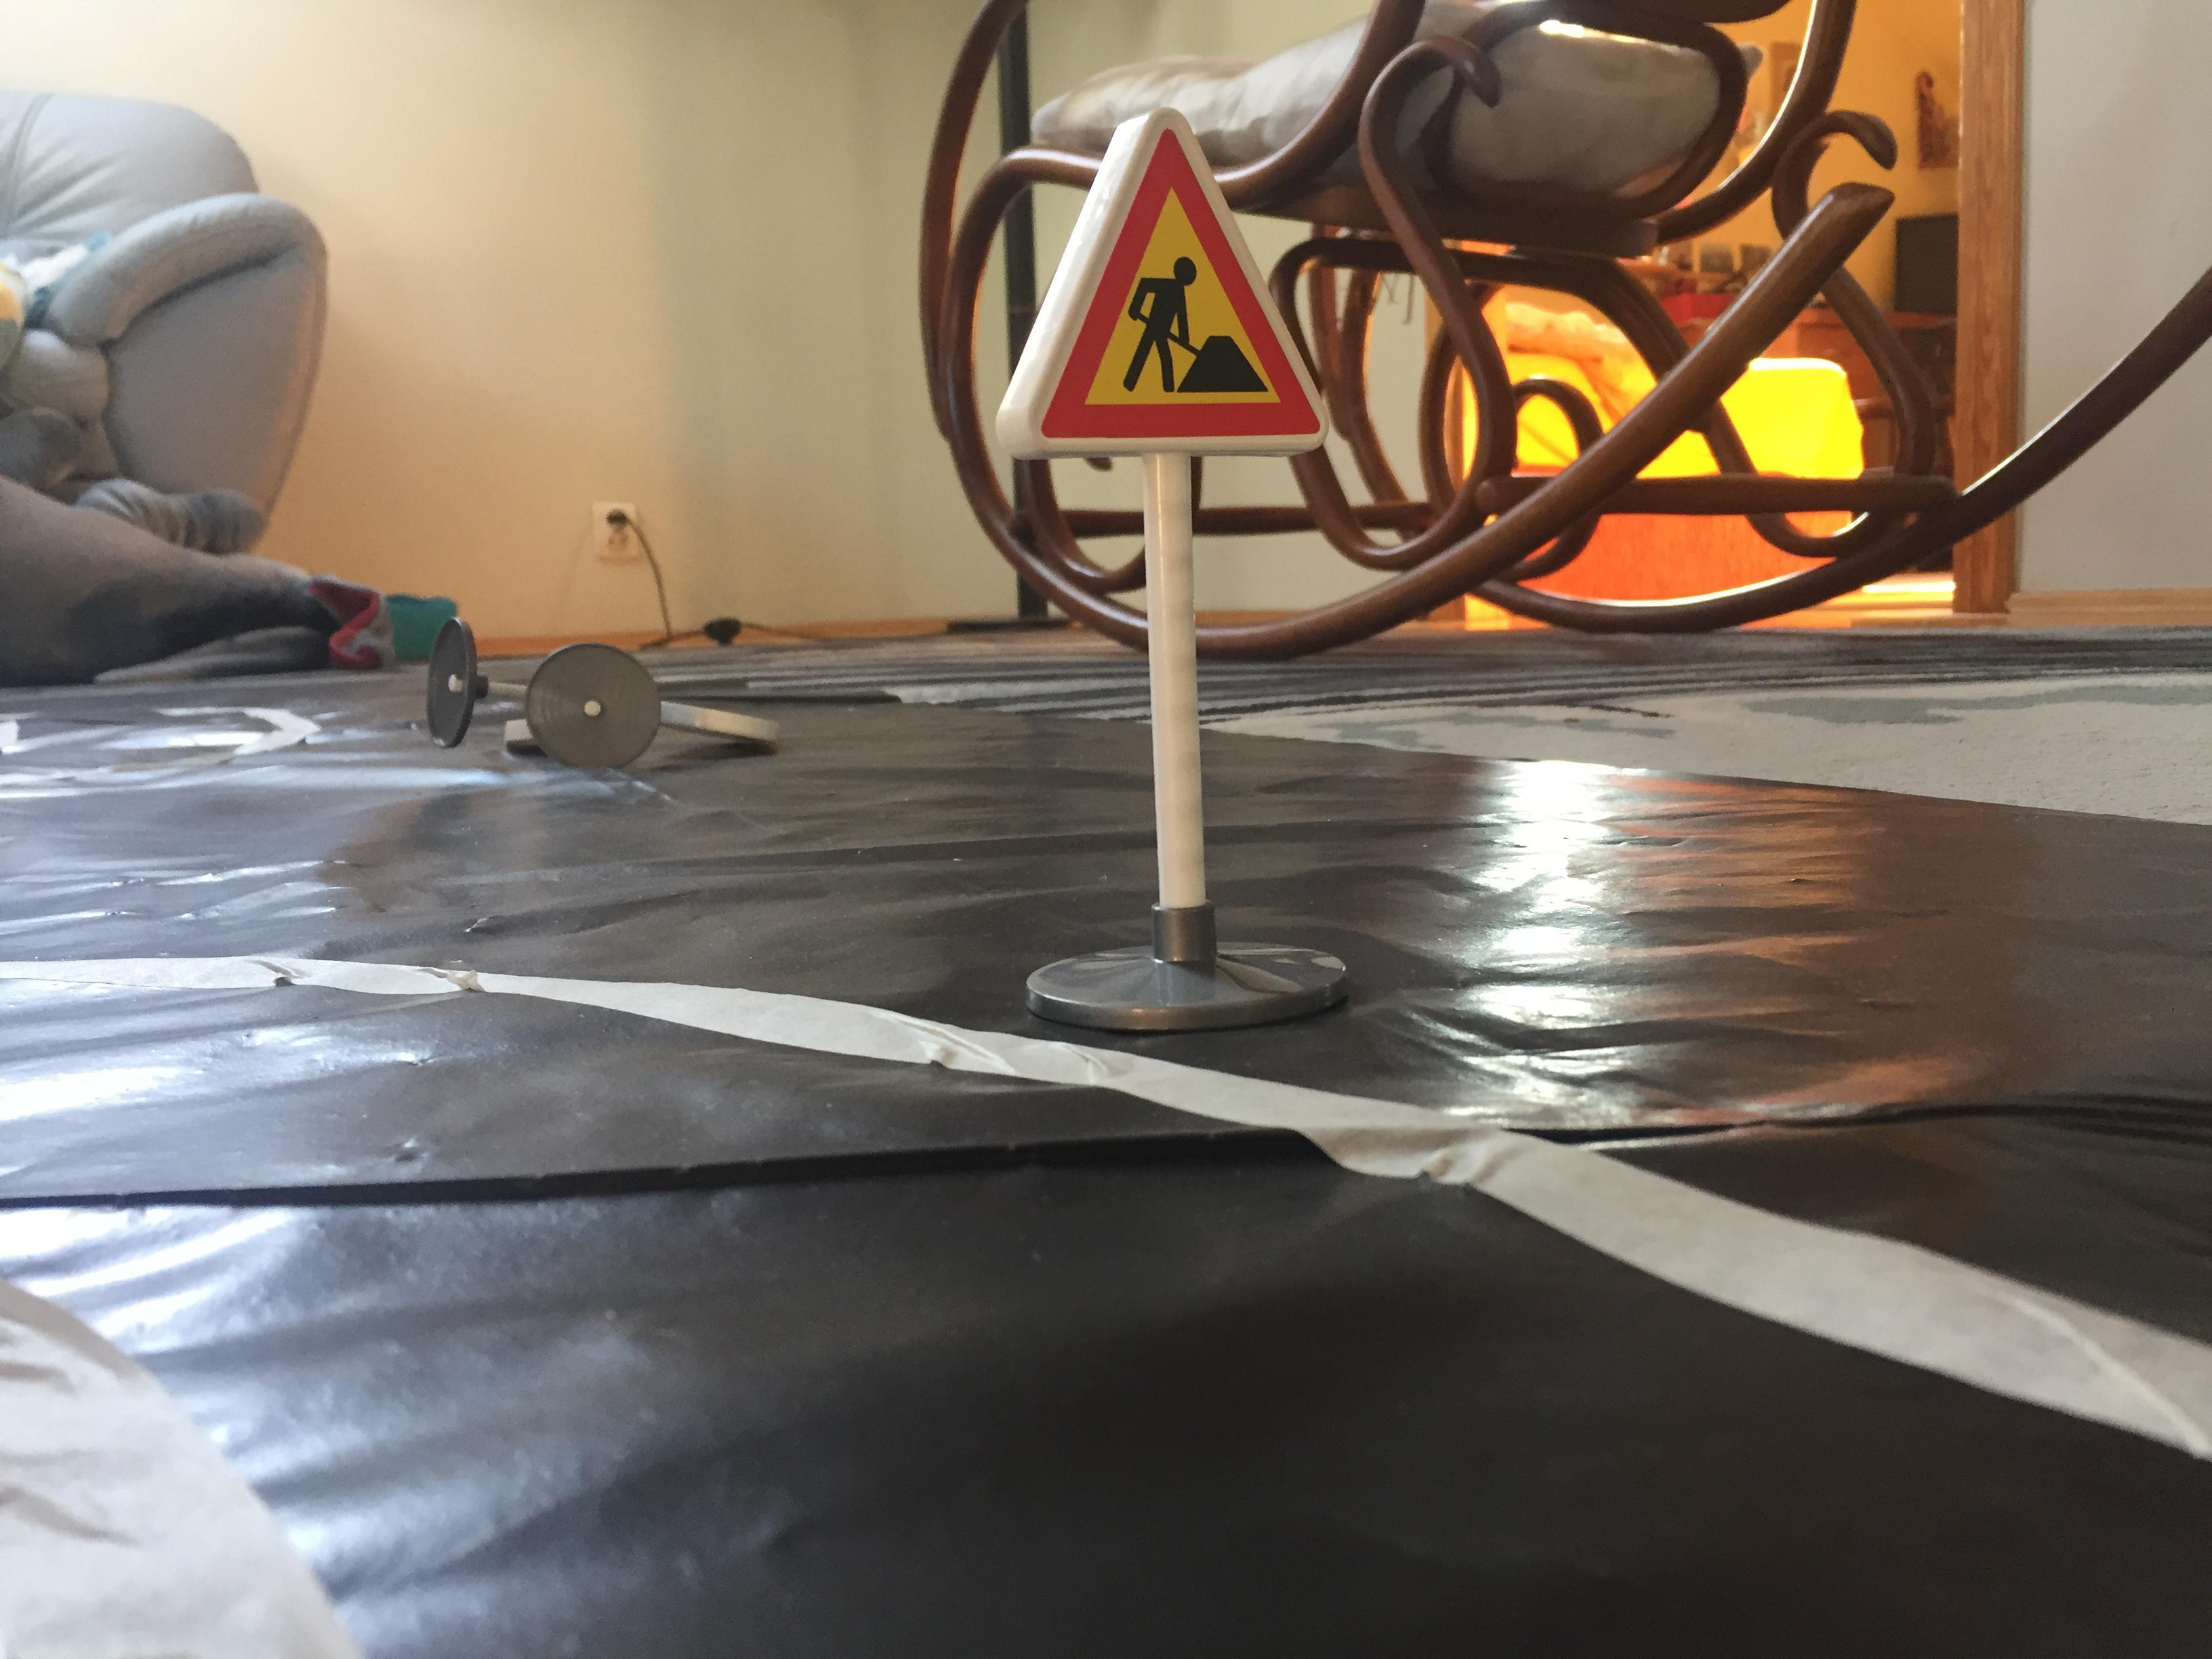work: (981, 113, 1338, 479)
